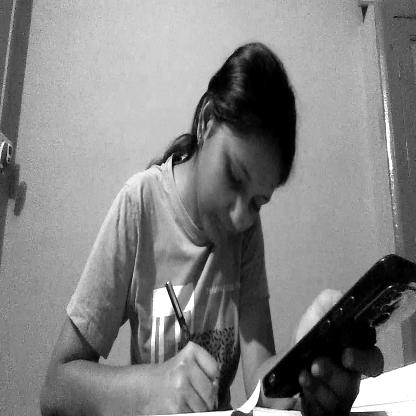Distracted: (186, 48, 306, 268)
